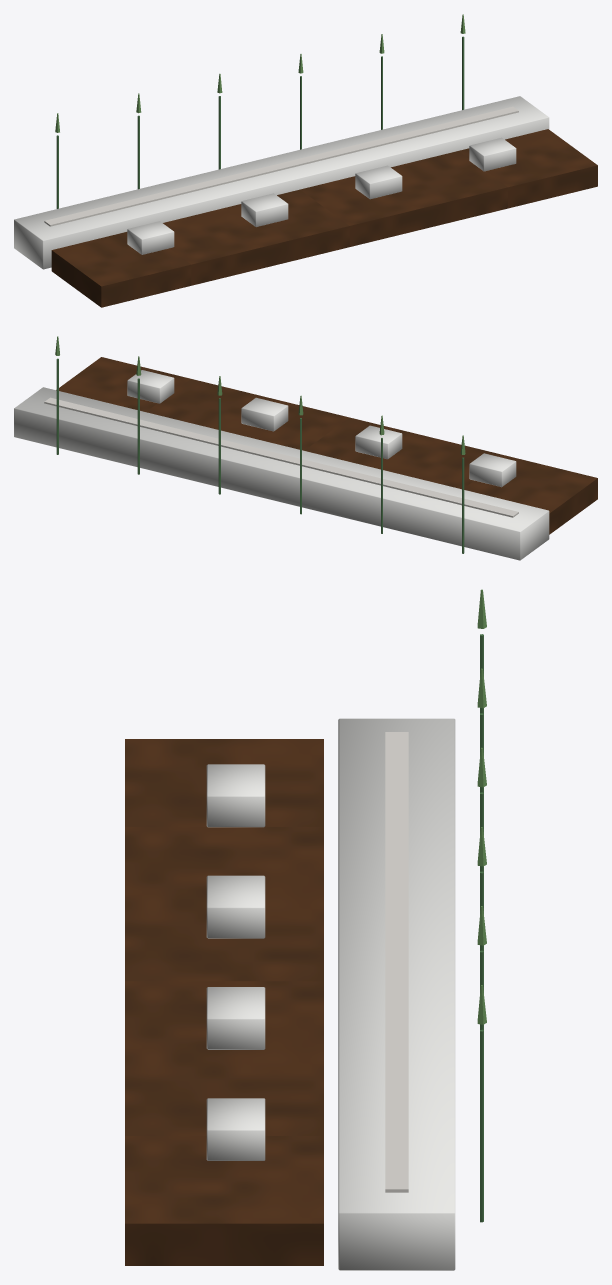
File: PondEdge.fbx
3 renders of one model, top to bottom at view 1: azimuth 30°, elevation 25°; view 2: azimuth 150°, elevation 25°; view 3: azimuth 270°, elevation 25°, orthographic. The views are drawn at different scales.
Visible parts, largest first — view 1: LOD0; view 2: LOD0; view 3: LOD0.
Part boxes in pixels (box(x1,y1,x2,y2)): LOD0: box(14, 14, 597, 307); LOD0: box(14, 336, 597, 560); LOD0: box(125, 589, 486, 1270).
Size of what is drawn, in the model's own units: 400 by 89 by 124.
